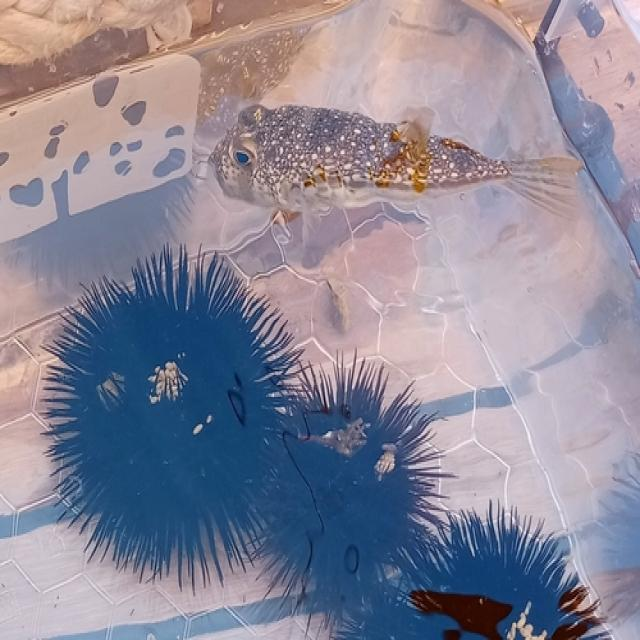Balik: (209, 105, 582, 215)
